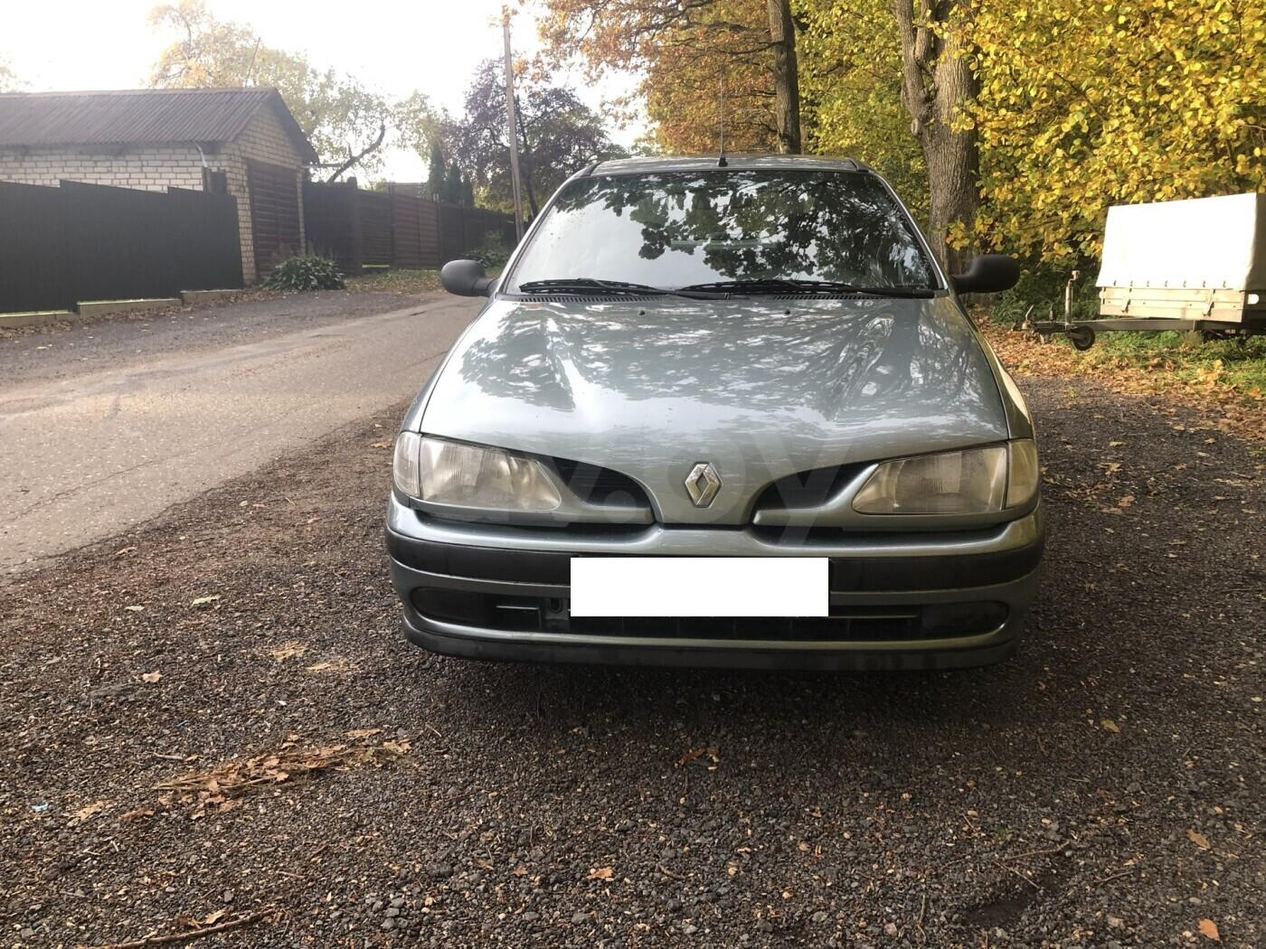Megane_1995-1999: (391, 147, 1050, 689)
